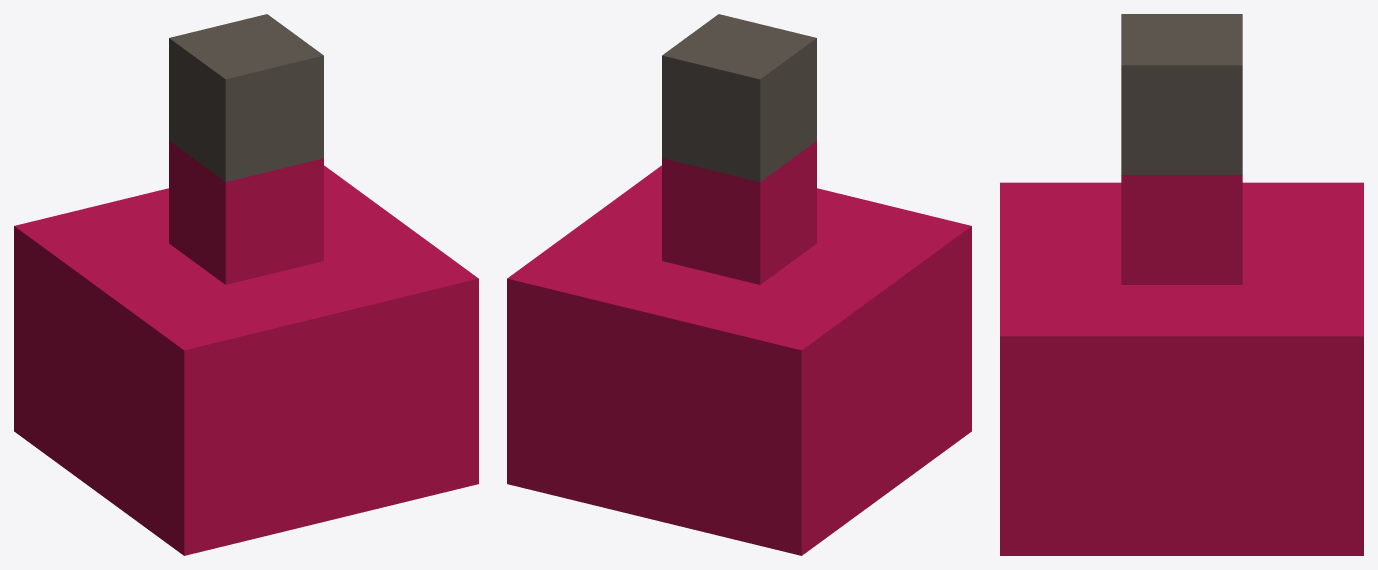
File: potion_a.obj
3 renders of one model, left to right at view 1: azimuth 30°, elevation 25°; view 2: azimuth 150°, elevation 25°; view 3: azimuth 270°, elevation 25°, orthographic. The views are drawn at different scales.
Size of the model in its own units: 0.3 by 0.4 by 0.3.
1 material, 1 textured.
